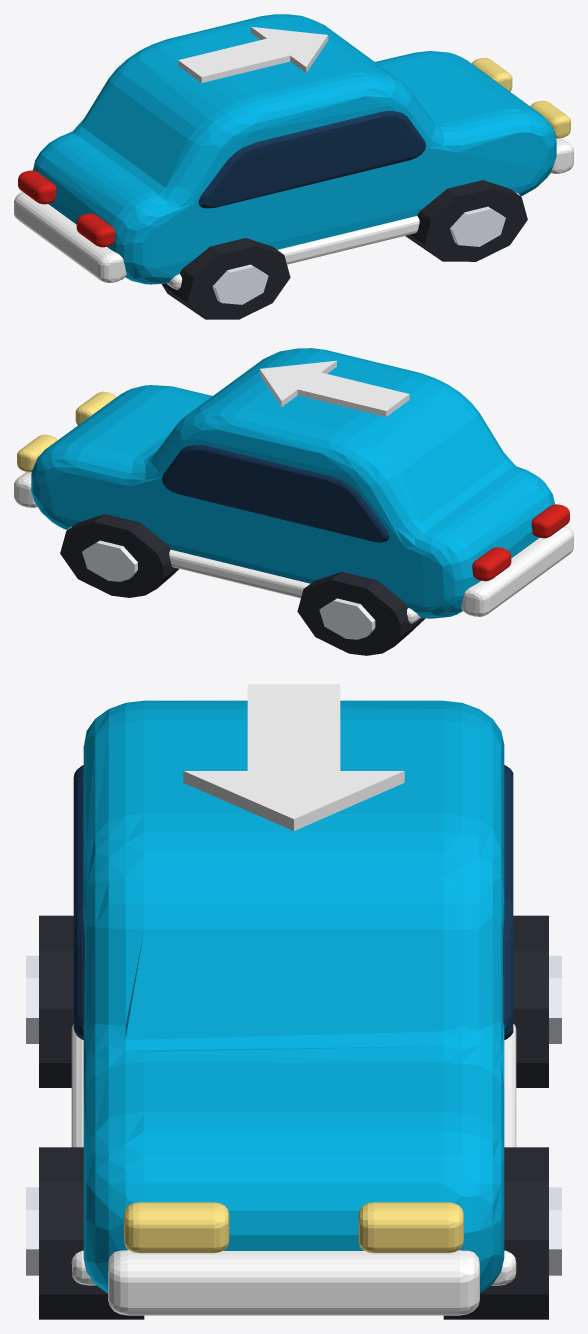
File: car.glb
The picture shows the model from 3 angles, top to bottom: view 1: azimuth 30°, elevation 25°; view 2: azimuth 150°, elevation 25°; view 3: azimuth 270°, elevation 25°; orthographic projection. The views are drawn at different scales.
Visible parts, largest first — view 1: body, windshield, wheel (×2), roof_arrow, bumper_rear, hubcap (×2), sill, taillight (×2), headlight (×2), bumper_front; view 2: body, windshield, wheel (×2), roof_arrow, bumper_rear, hubcap (×2), sill, taillight (×2), headlight (×2), bumper_front; view 3: body, wheel (×4), bumper_front, roof_arrow, headlight (×2), windshield, hubcap (×4), sill.
Part boxes in pixels (x1=…): body: x1=33, y1=14, x2=556, y2=284; windshield: x1=198, y1=111, x2=425, y2=208; wheel (×2): x1=161, y1=180, x2=527, y2=319; roof_arrow: x1=178, y1=27, x2=328, y2=82; bumper_rear: x1=14, y1=192, x2=126, y2=282; hubcap (×2): x1=212, y1=206, x2=505, y2=304; sill: x1=167, y1=193, x2=519, y2=289; taillight (×2): x1=18, y1=170, x2=115, y2=247; headlight (×2): x1=472, y1=58, x2=570, y2=138; bumper_front: x1=551, y1=138, x2=573, y2=173; body: x1=31, y1=348, x2=554, y2=618; windshield: x1=162, y1=445, x2=389, y2=542; wheel (×2): x1=60, y1=514, x2=425, y2=655; roof_arrow: x1=259, y1=360, x2=409, y2=416; bumper_rear: x1=461, y1=526, x2=573, y2=616; hubcap (×2): x1=82, y1=540, x2=375, y2=639; sill: x1=67, y1=526, x2=420, y2=623; taillight (×2): x1=472, y1=504, x2=569, y2=581; headlight (×2): x1=17, y1=391, x2=116, y2=472; bumper_front: x1=14, y1=472, x2=37, y2=507; body: x1=83, y1=700, x2=504, y2=1293; wheel (×4): x1=39, y1=915, x2=548, y2=1319; bumper_front: x1=108, y1=1250, x2=479, y2=1315; roof_arrow: x1=183, y1=684, x2=404, y2=830; headlight (×2): x1=124, y1=1202, x2=463, y2=1253; windshield: x1=73, y1=765, x2=513, y2=1039; hubcap (×4): x1=26, y1=955, x2=561, y2=1275; sill: x1=71, y1=1024, x2=516, y2=1285.
Size of the model in its own units: 2.72 by 1.1 by 1.33.
